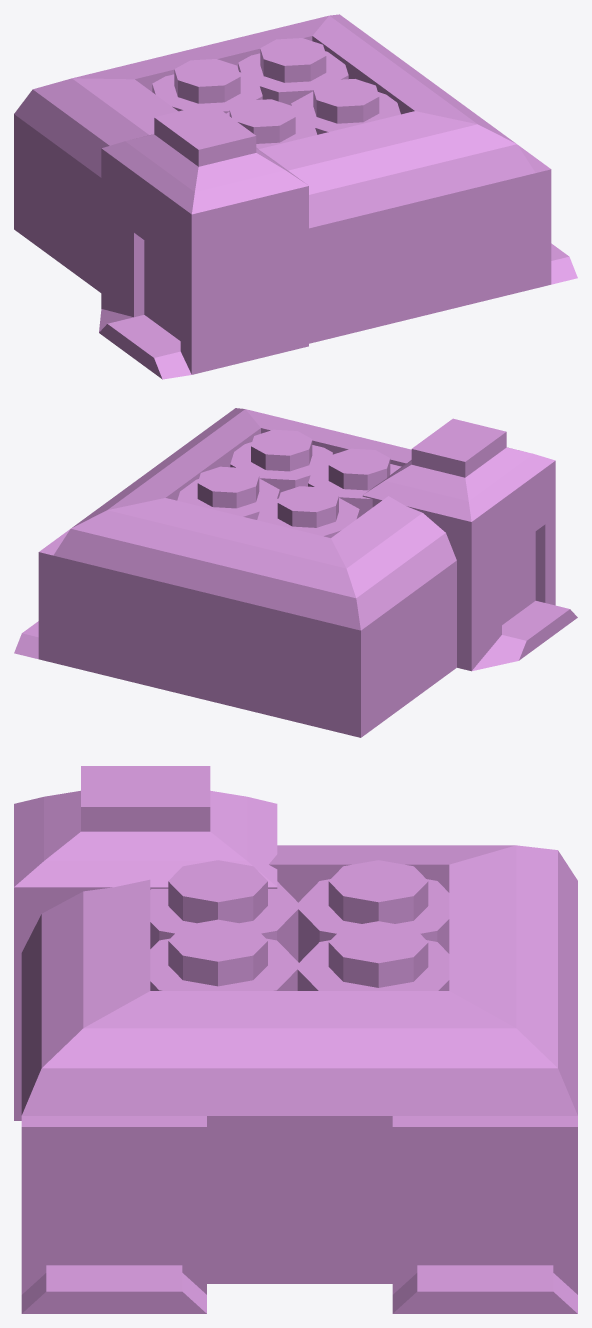
Rendered from manufacturer.fbx.
The picture shows the model from 3 angles, top to bottom: view 1: azimuth 30°, elevation 25°; view 2: azimuth 150°, elevation 25°; view 3: azimuth 270°, elevation 25°; orthographic projection. The views are drawn at different scales.
Parts seen in each view (by area): view 1: ManufacturerMesh; view 2: ManufacturerMesh; view 3: ManufacturerMesh.
Part boxes in pixels (x1,y1,x2,y2): ManufacturerMesh: (14,14,577,379); ManufacturerMesh: (14,408,577,737); ManufacturerMesh: (14,766,577,1313).
Bounding box in the file's own units: 377 × 174 × 304.
